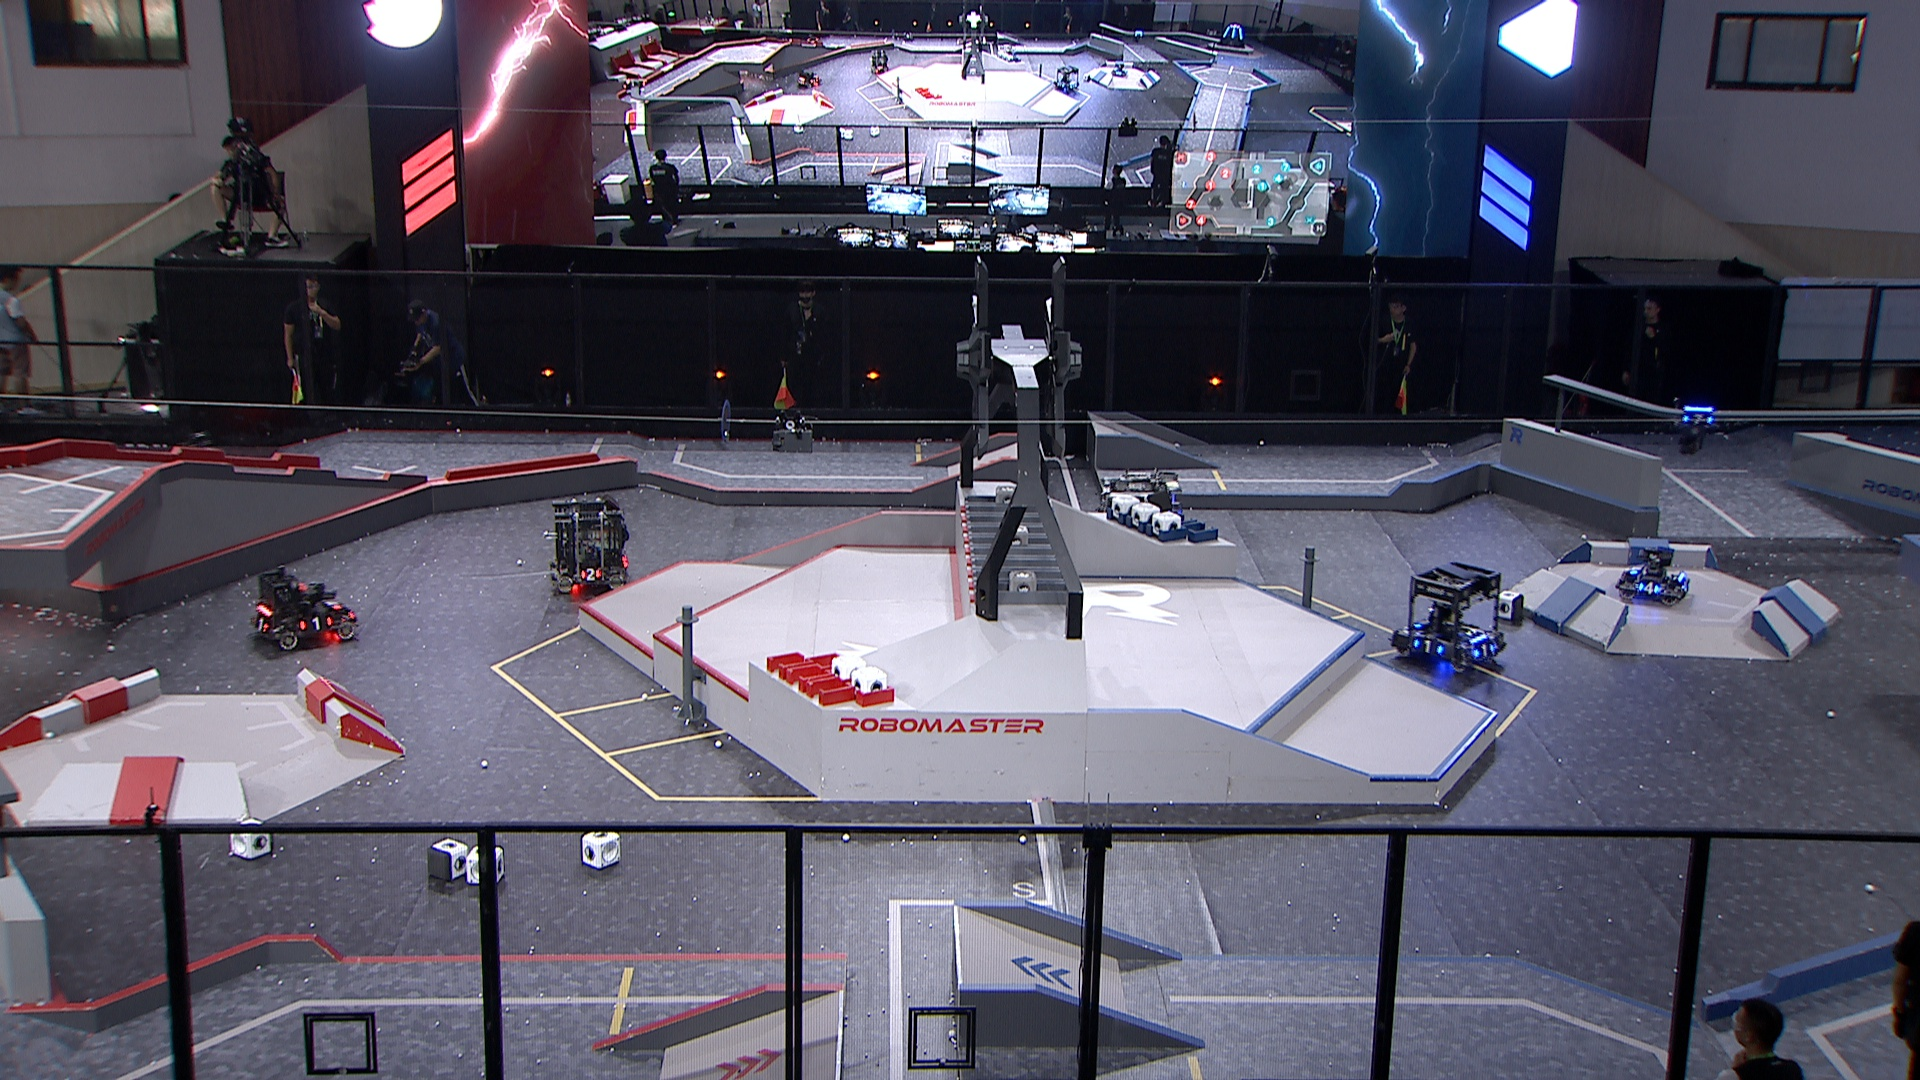armor: (295, 616, 338, 633), (1411, 637, 1447, 657), (1470, 644, 1499, 659), (1684, 413, 1713, 429), (579, 567, 604, 583), (1636, 583, 1664, 595), (252, 617, 272, 633), (324, 599, 342, 611), (1627, 564, 1644, 576), (1411, 617, 1432, 626)
car: (1386, 559, 1513, 674), (243, 564, 361, 651), (1095, 467, 1193, 564), (546, 495, 636, 595), (1613, 545, 1691, 608)
ignore: (1054, 65, 1083, 92), (868, 49, 894, 76), (1218, 24, 1247, 49), (794, 67, 822, 90)
watcher: (1673, 404, 1720, 456)
